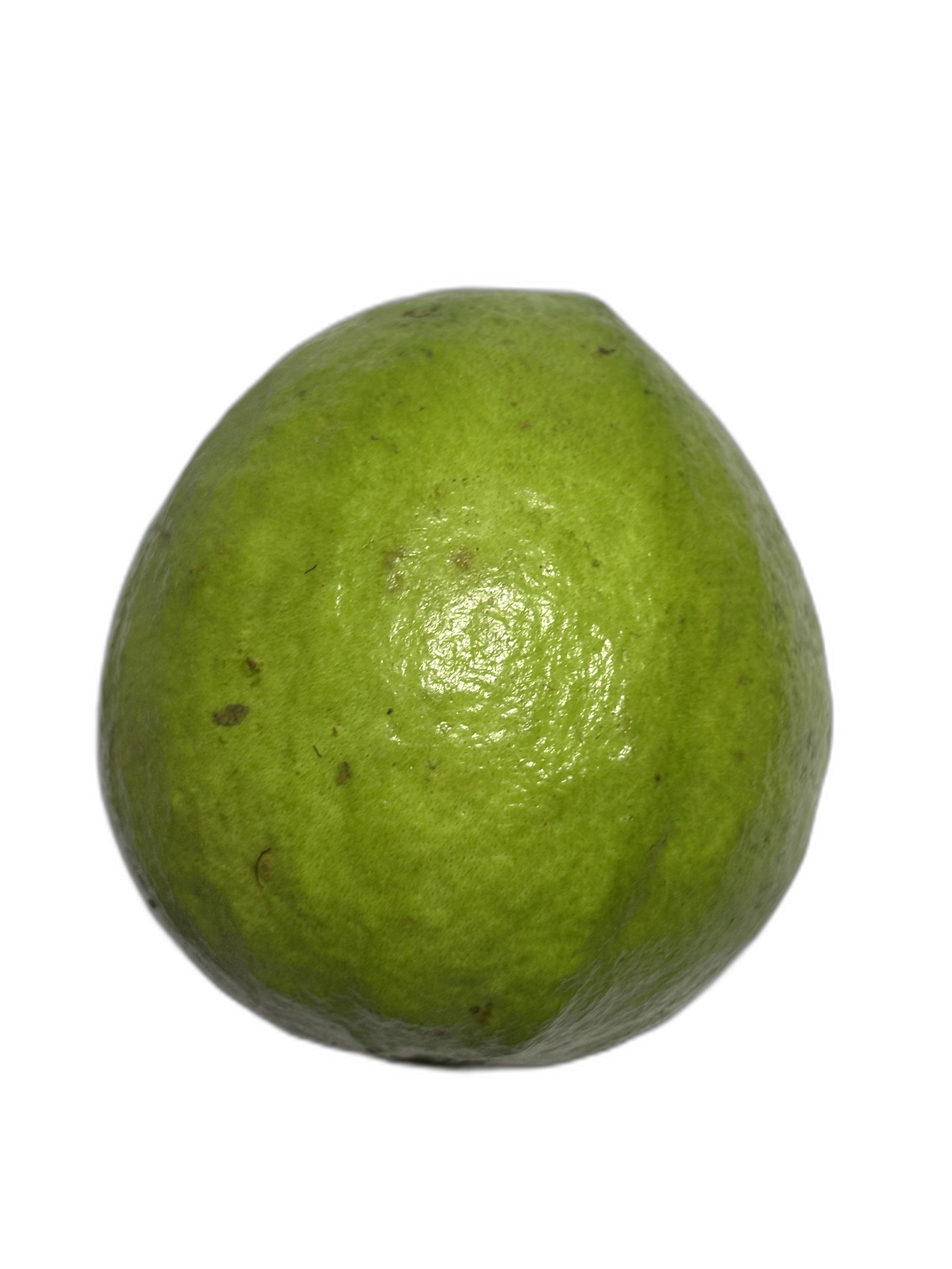guava: (45, 198, 751, 973)
